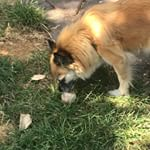puppy: (37, 1, 148, 103)
